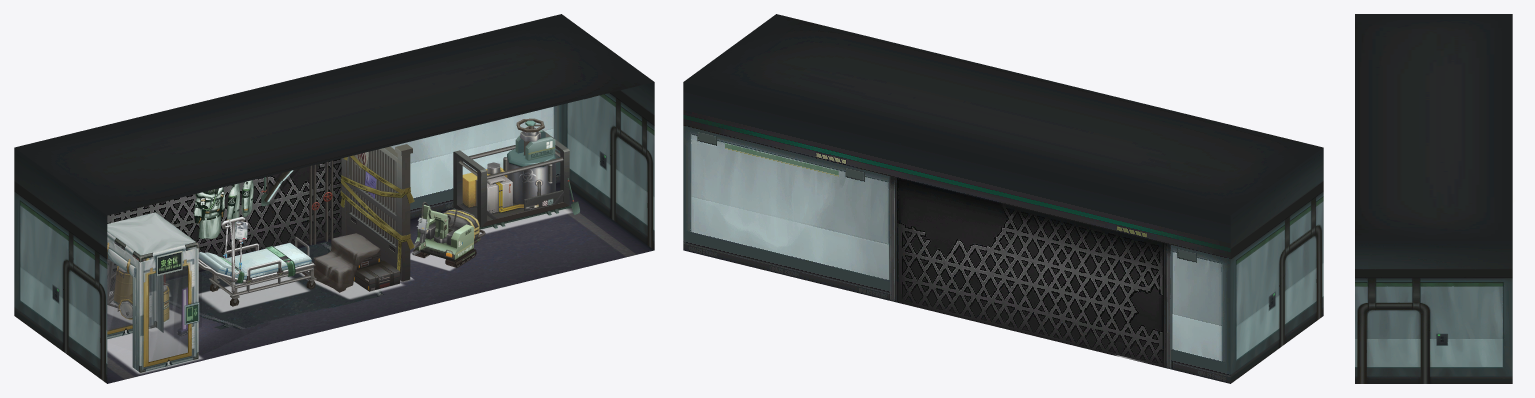
File: safetyZone.glb
The picture shows the model from 3 angles, left to right: view 1: azimuth 30°, elevation 25°; view 2: azimuth 150°, elevation 25°; view 3: azimuth 270°, elevation 25°; orthographic projection. The views are drawn at different scales.
Visible parts, largest first — view 1: ROOM_room, ROOM_floor, furni_safetyZone_virusFilter_01, furni_safetyZone_gate_01, furni_safetyZone_carpet_01, furni_safetyZone_partitionWall_01, furni_safetyZone_gate_02, furni_safetyZone_stretcher_01, furni_safetyZone_box_01, furni_safetyZone_roboticArmVehicle_01, furni_safetyZone_partitionWall_03, shadow.002 (+8 smaller); view 2: ROOM_room, ROOM_LDoor; view 3: ROOM_room, ROOM_RDoor.
Part boxes in pixels (box(x1,y1,x2,y2)): ROOM_room: box(14, 14, 654, 383); ROOM_floor: box(107, 183, 654, 383); furni_safetyZone_virusFilter_01: box(453, 118, 579, 237); furni_safetyZone_gate_01: box(107, 212, 199, 373); furni_safetyZone_carpet_01: box(165, 241, 384, 329); furni_safetyZone_partitionWall_01: box(341, 144, 412, 282); furni_safetyZone_gate_02: box(107, 242, 187, 361); furni_safetyZone_stretcher_01: box(198, 216, 316, 306); furni_safetyZone_box_01: box(302, 233, 399, 292); furni_safetyZone_roboticArmVehicle_01: box(412, 201, 480, 267); furni_safetyZone_partitionWall_03: box(340, 155, 414, 273); shadow.002: box(199, 276, 309, 312); ROOM_room: box(683, 14, 1323, 383); ROOM_LDoor: box(1290, 249, 1309, 339); ROOM_room: box(1355, 14, 1512, 383); ROOM_RDoor: box(1378, 319, 1410, 383).
Bounding box in the file's own units: 7.48 × 2.2 × 2.35.
8 materials, 8 textured.
